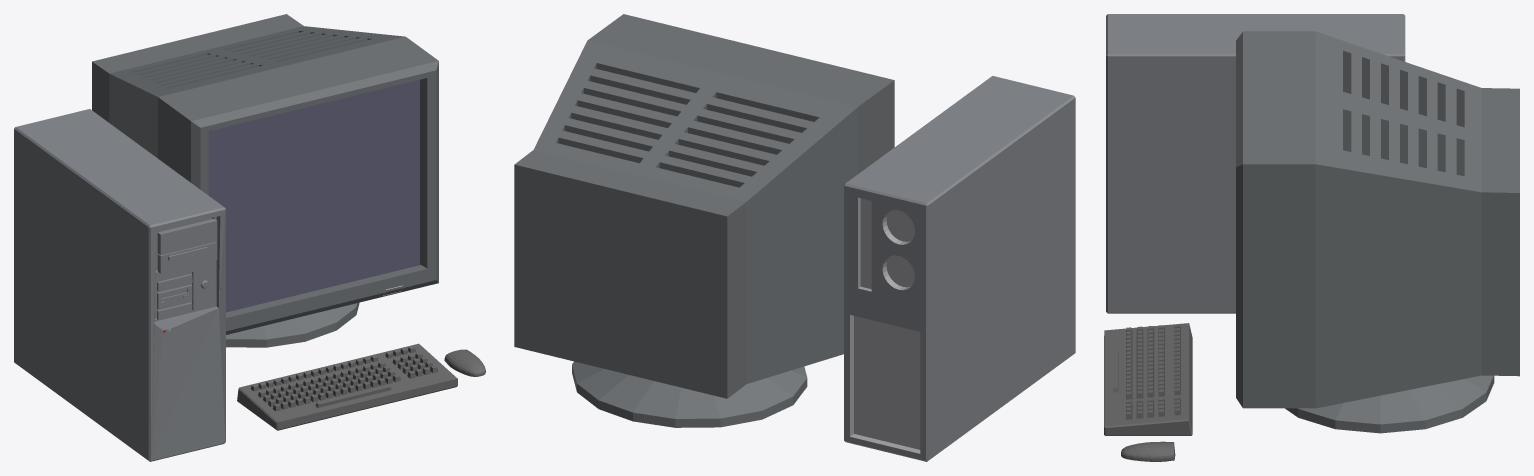
3 views of the same model, side by side, from view 1: azimuth 30°, elevation 25°; view 2: azimuth 150°, elevation 25°; view 3: azimuth 270°, elevation 25° (orthographic). The views are drawn at different scales.
Visible parts, largest first — view 1: obj0; view 2: obj0; view 3: obj0.
Part boxes in pixels (<box>): obj0: <box>14,14,485,461</box>; obj0: <box>514,14,1075,461</box>; obj0: <box>1104,14,1519,461</box>.
Size of the model in its own units: 70.97 by 52.34 by 66.15.
